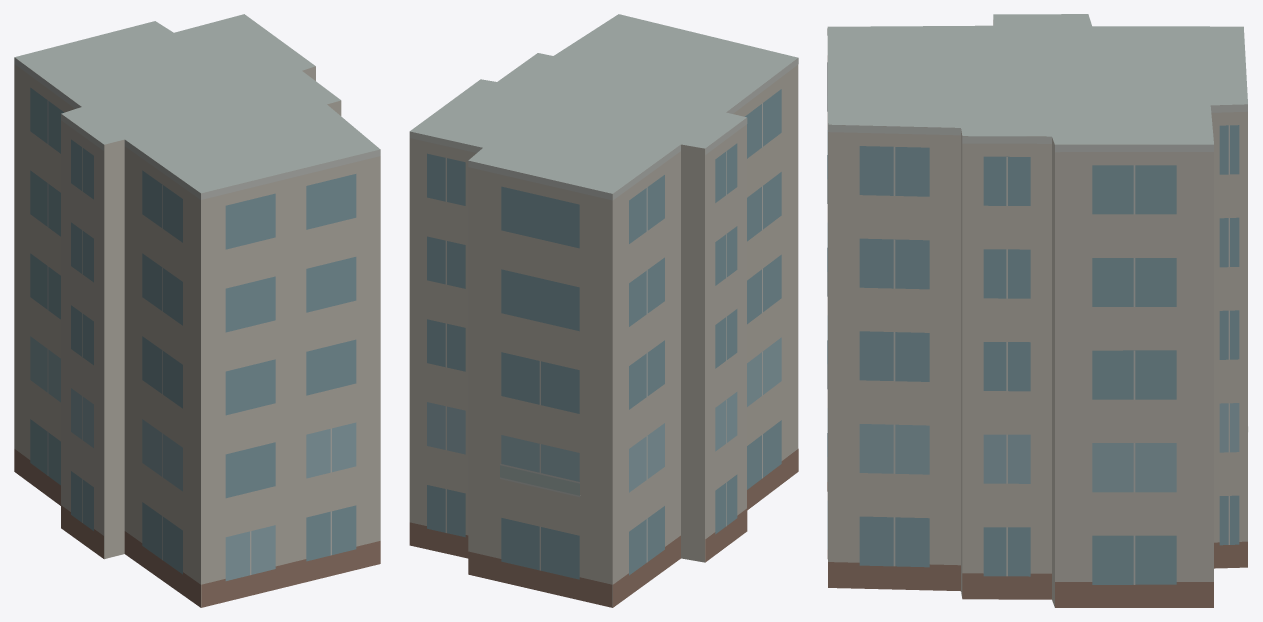
File: survey-upis-32822967.glb
3 renders of one model, left to right at view 1: azimuth 30°, elevation 25°; view 2: azimuth 150°, elevation 25°; view 3: azimuth 270°, elevation 25°, orthographic. The views are drawn at different scales.
Visible parts, largest first — view 1: survey-upis-32822967.tmp; view 2: survey-upis-32822967.tmp; view 3: survey-upis-32822967.tmp.
Part boxes in pixels (<box>): survey-upis-32822967.tmp: <box>14,14,380,607</box>; survey-upis-32822967.tmp: <box>409,14,798,607</box>; survey-upis-32822967.tmp: <box>827,14,1248,607</box>.
Size of the model in its own units: 9.24 by 15.25 by 12.56.
